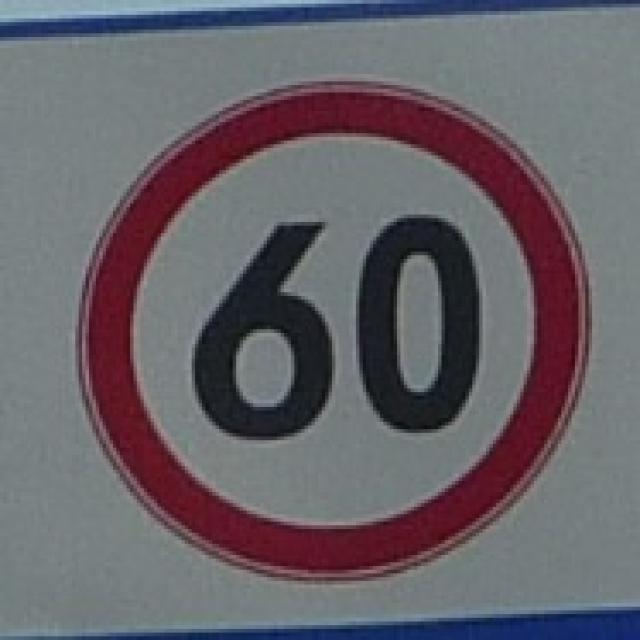Speed Limit -60-: (189, 211, 490, 440)
